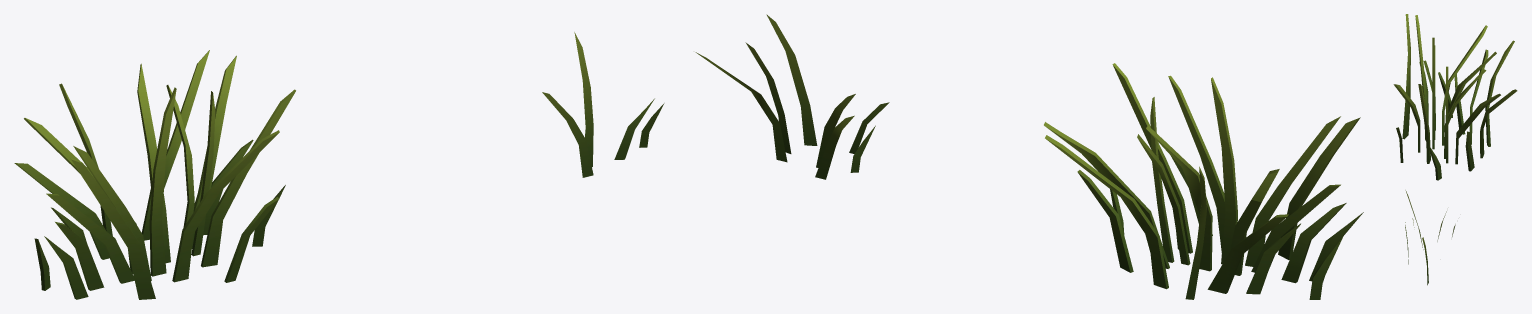
File: grass.glb
3 views of the same model, side by side, from view 1: azimuth 30°, elevation 25°; view 2: azimuth 150°, elevation 25°; view 3: azimuth 270°, elevation 25° (orthographic). The views are drawn at different scales.
Visible parts, largest first — view 1: Grass_Large_Extruded; view 2: Grass_Large_Extruded; view 3: Grass_Large_Extruded.
Boxes of the visible parts, bbox=[...] form: Grass_Large_Extruded: bbox=[14, 32, 664, 299]; Grass_Large_Extruded: bbox=[695, 14, 1363, 299]; Grass_Large_Extruded: bbox=[1393, 14, 1517, 285].
Bounding box in the file's own units: 1.84 × 0.5112 × 0.4974.
Materials: 1 (1 with a texture image).
